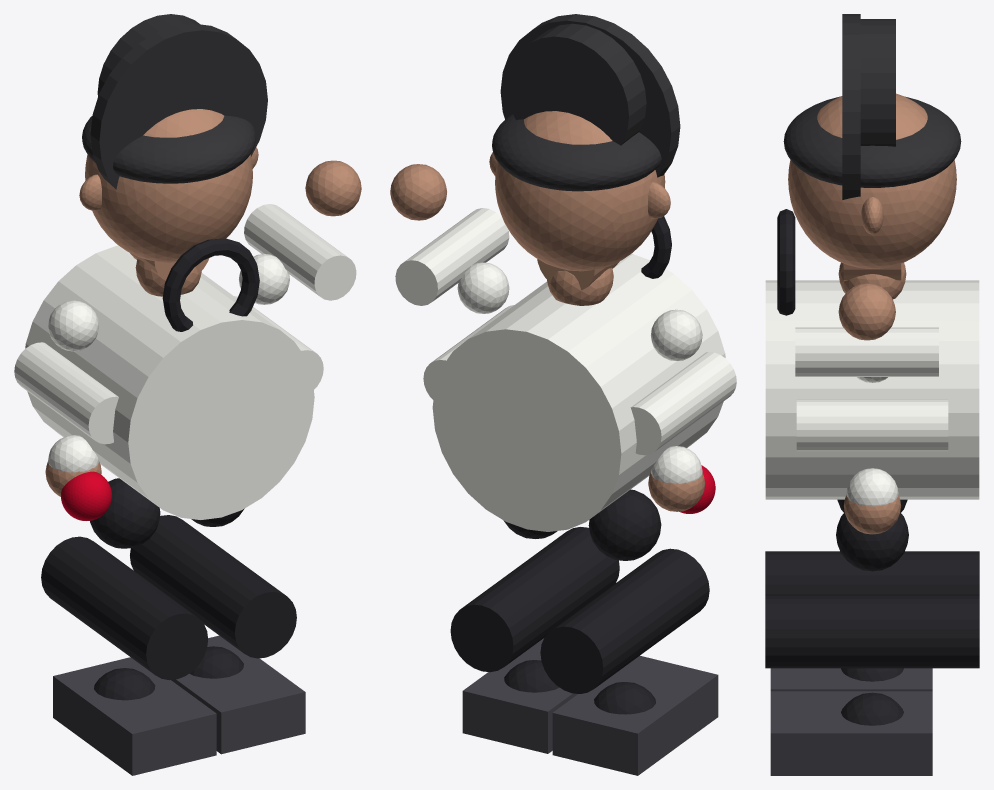
File: umpire.glb
3 views of the same model, side by side, from view 1: azimuth 30°, elevation 25°; view 2: azimuth 150°, elevation 25°; view 3: azimuth 270°, elevation 25° (orthographic).
Parts seen in each view (by area): view 1: UmpireShirt, HatBrim, LeftLeg_body, RightLeg_body, Head, Shoe-0.2, Shoe0.2, Hair, LeftArm_body, SignalForearm, Collar, LeftLeg_top (+12 smaller); view 2: UmpireShirt, Head, LeftLeg_body, RightLeg_body, Shoe-0.2, HatCrown, Hair, Shoe0.2, LeftArm_body, SignalForearm, HatBrim, LeftLeg_top (+12 smaller); view 3: UmpireShirt, RightLeg_body, Head, Shoe0.2, LeftLeg_body, Hair, RightArm_body, SignalForearm, HatCrown, HatBrim, Shoe-0.2, RightLeg_top (+9 smaller).
Boxes of the visible parts, x1,y1,x2,y2 form: UmpireShirt: (25,245,314,519); HatBrim: (90,23,267,189); LeftLeg_body: (41,536,208,680); RightLeg_body: (130,515,296,658); Head: (85,109,252,262); Shoe-0.2: (53,657,216,775); Shoe0.2: (171,635,305,754); Hair: (82,115,255,183); LeftArm_body: (14,342,118,444); SignalForearm: (244,204,356,300); Collar: (162,238,259,331); LeftLeg_top: (90,478,160,548); UmpireShirt: (432,254,725,531); Head: (495,111,665,271); LeftLeg_body: (540,548,709,693); RightLeg_body: (450,527,619,672); Shoe-0.2: (552,655,718,775); HatCrown: (507,23,646,145); Hair: (492,114,661,191); Shoe0.2: (462,638,577,753); LeftArm_body: (630,352,736,455); SignalForearm: (395,208,509,305); HatBrim: (500,14,680,177); LeftLeg_top: (588,489,661,560); UmpireShirt: (765,280,979,499); RightLeg_body: (765,595,979,668); Head: (788,93,956,268); Shoe0.2: (770,691,932,775); LeftLeg_body: (765,551,979,595); Hair: (783,96,961,187); RightArm_body: (796,399,948,451); SignalForearm: (795,327,938,376); HatCrown: (860,19,895,146); HatBrim: (842,14,860,199); Shoe-0.2: (770,668,932,691); RightLeg_top: (836,512,908,571).
Size of the model in its own units: 1.38 by 3.03 by 0.82.
